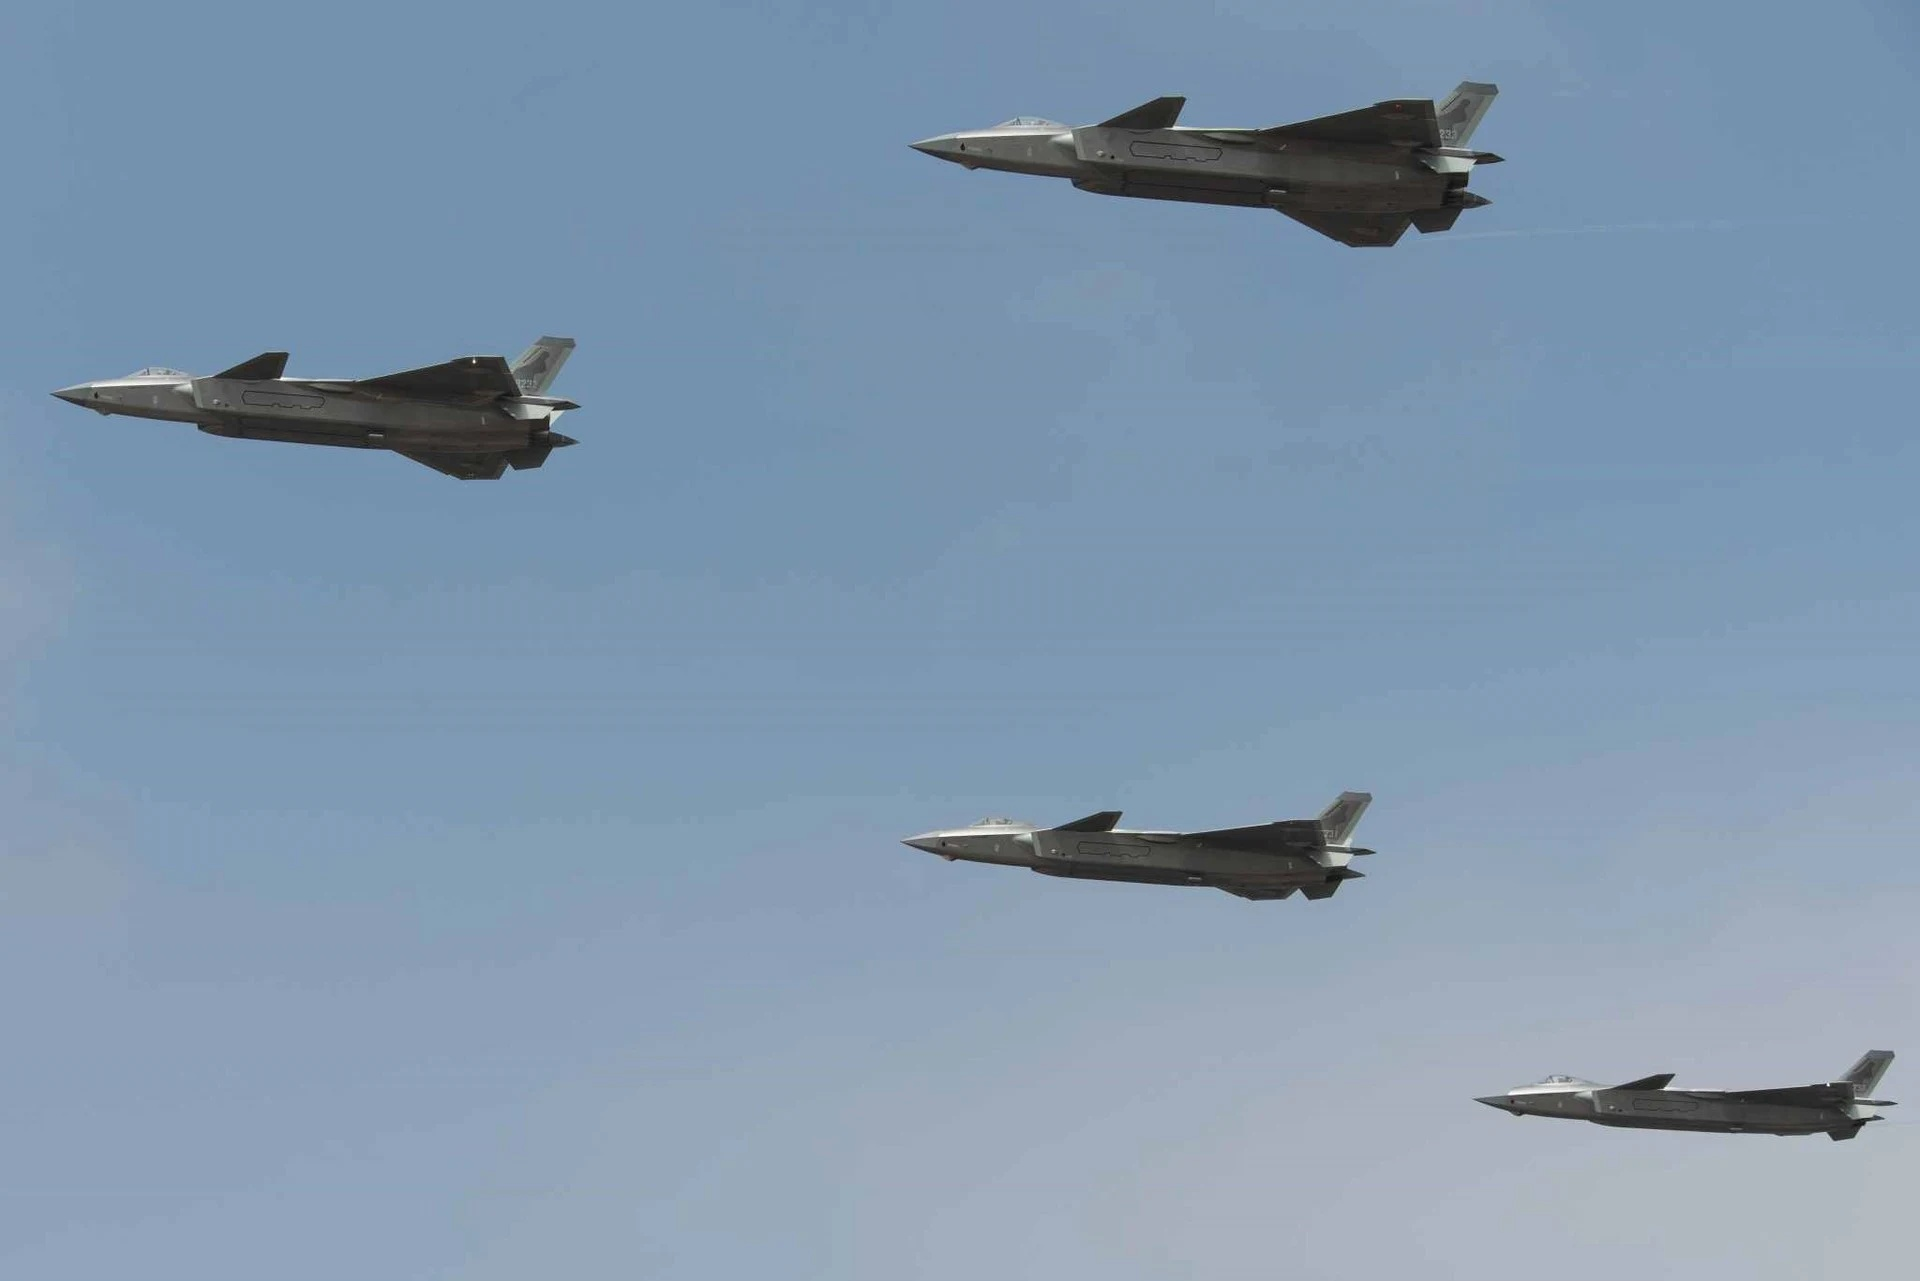J20: (906, 80, 1505, 249), (49, 335, 582, 480), (899, 791, 1377, 902), (1470, 1048, 1899, 1142)
